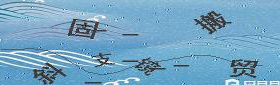chinese: (190, 8, 230, 37), (66, 17, 104, 40), (131, 56, 165, 80), (229, 57, 262, 81), (31, 62, 64, 85), (92, 49, 113, 73)
